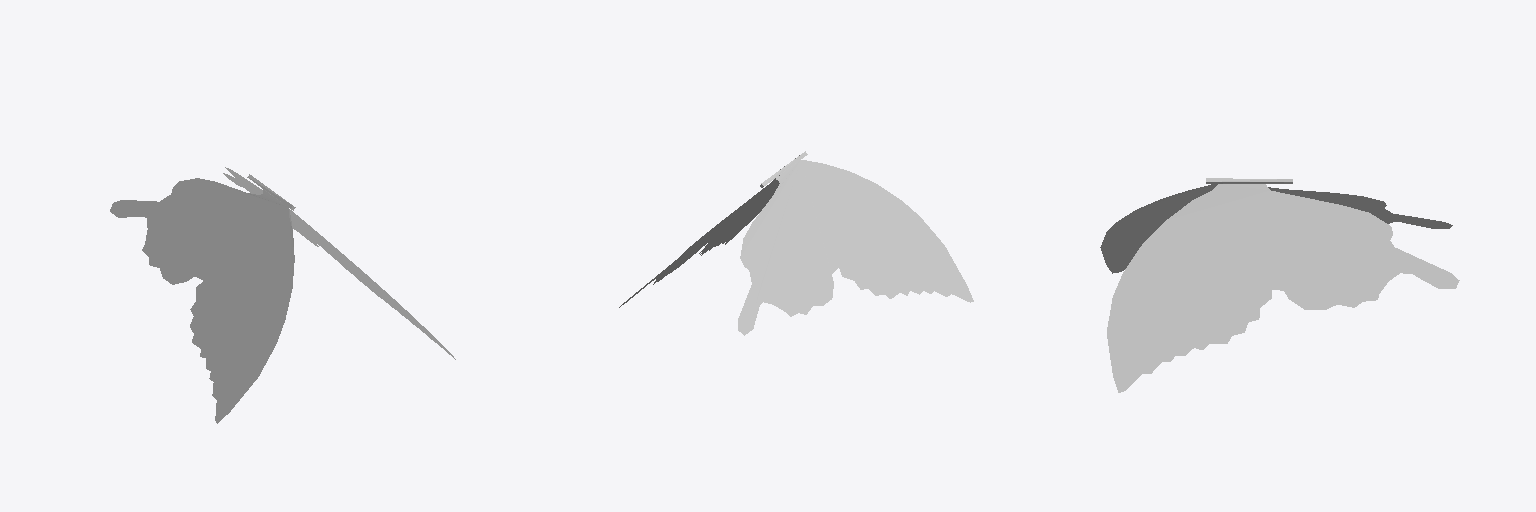
Rendered from mob_12.obj.
The picture shows the model from 3 angles: view 1: azimuth 30°, elevation 25°; view 2: azimuth 150°, elevation 25°; view 3: azimuth 270°, elevation 25°; orthographic projection.
Visible parts, largest first — view 1: Cube; view 2: Cube; view 3: Cube.
Part boxes in pixels (left/top/right/bottom): Cube: left=110, top=167, right=455, bottom=423; Cube: left=619, top=151, right=973, bottom=335; Cube: left=1100, top=178, right=1459, bottom=392.
Size of the model in its own units: 1.54 by 0.9327 by 1.96.